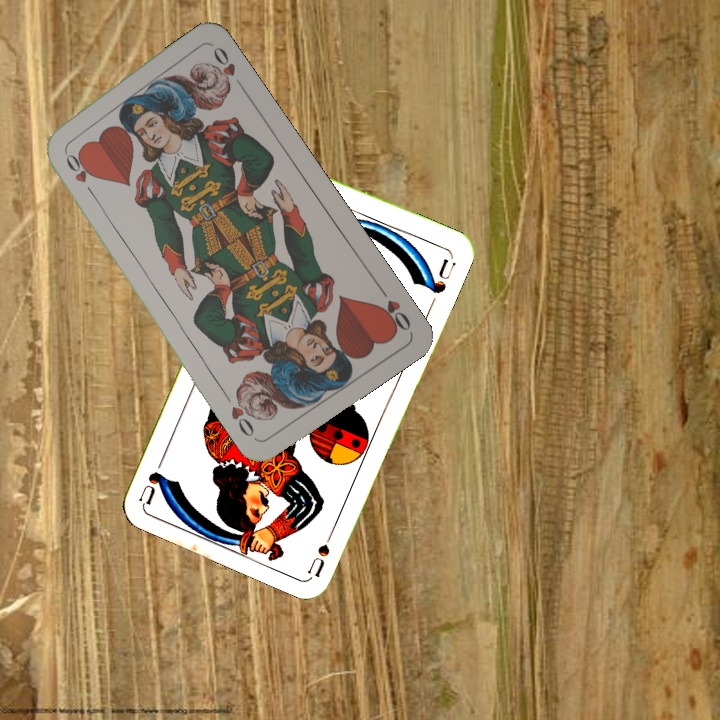HO: (374, 282, 414, 334), (60, 146, 98, 199)
SU: (304, 520, 339, 578)
